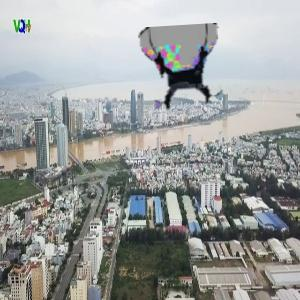drone: (140, 26, 229, 115)
